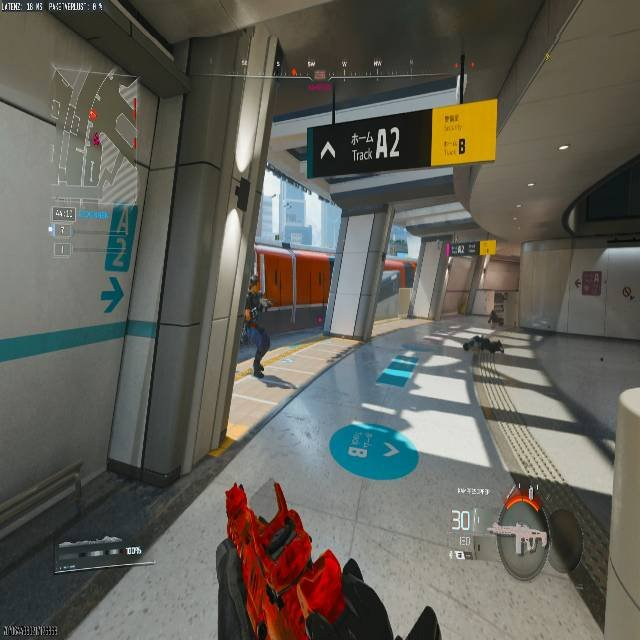head: (248, 276, 260, 293)
player: (244, 276, 275, 378)
